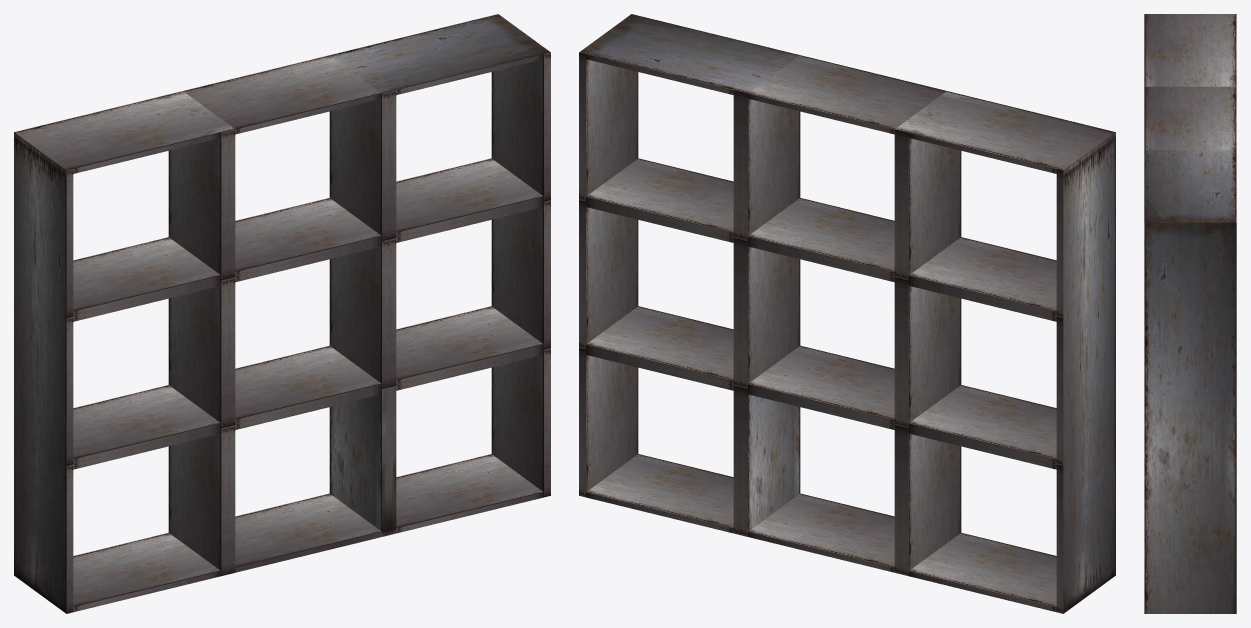
Rendered from shelf.fbx.
3 renders of one model, left to right at view 1: azimuth 30°, elevation 25°; view 2: azimuth 150°, elevation 25°; view 3: azimuth 270°, elevation 25°, orthographic. The views are drawn at different scales.
Visible parts, largest first — view 1: shelf; view 2: shelf; view 3: shelf.
Part boxes in pixels (x1,y1,x2,y2): shelf: (14,14,550,613); shelf: (579,14,1115,613); shelf: (1144,14,1236,613).
Bounding box in the file's own units: 800 × 700 × 150.
1 material, 1 textured.
